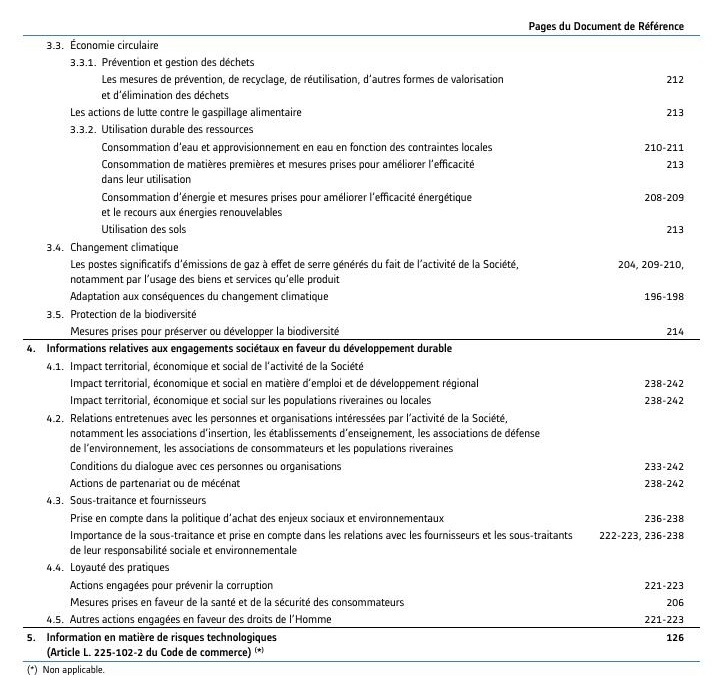table: (0, 0, 726, 689)
